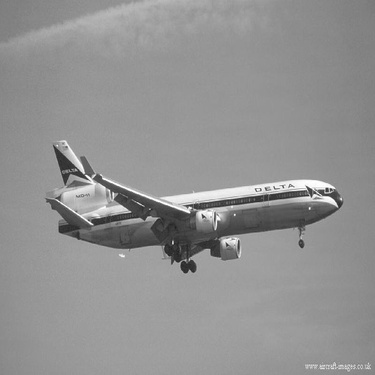airplane: (19, 112, 332, 271)
